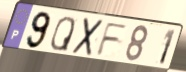1: (158, 28, 177, 67)
8: (124, 24, 149, 63)
9: (25, 11, 53, 50)
F: (94, 22, 130, 58)
Q: (49, 15, 76, 53)
X: (70, 16, 106, 58)
